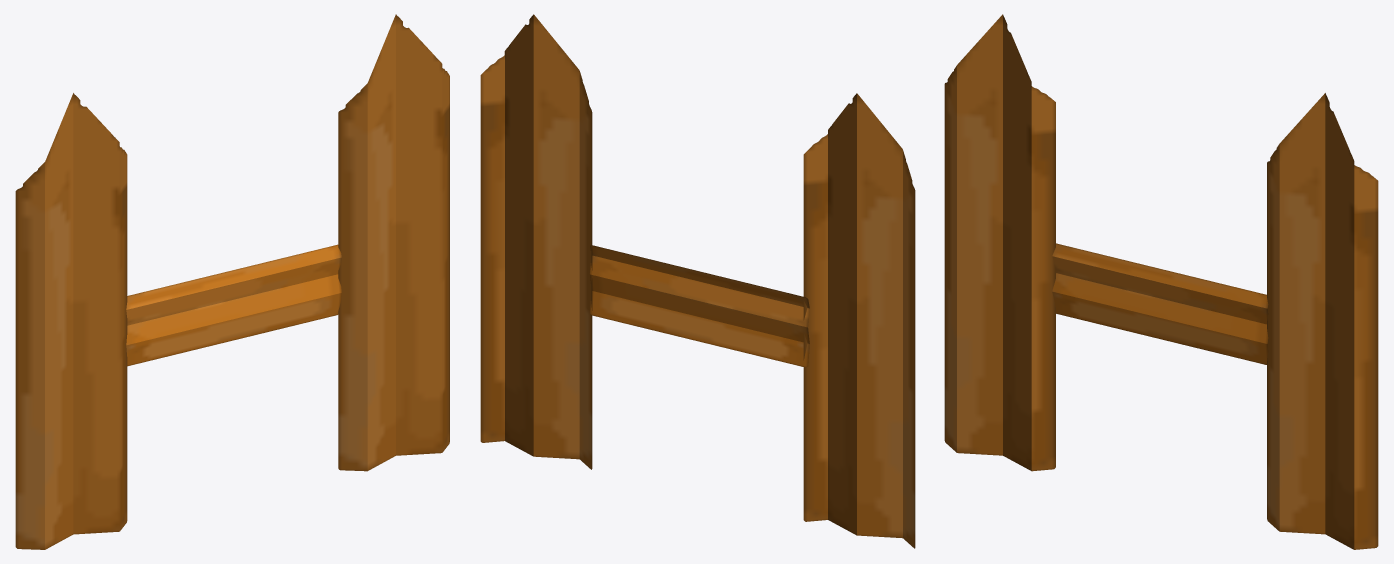
The model's file is Fence.fbx.
3 views of the same model, side by side, from view 1: azimuth 30°, elevation 25°; view 2: azimuth 150°, elevation 25°; view 3: azimuth 330°, elevation 25° (orthographic).
Parts seen in each view (by area): view 1: Plane.004, Plane, Plane.005; view 2: Plane, Plane.004, Plane.005; view 3: Plane, Plane.004, Plane.005.
Part boxes in pixels (x1,y1,x2,y2): Plane.004: (15,93,127,549); Plane: (338,14,449,471); Plane.005: (126,244,341,366); Plane: (480,14,592,469); Plane.004: (803,93,915,548); Plane.005: (589,245,809,367); Plane: (1267,93,1378,549); Plane.004: (944,14,1055,471); Plane.005: (1052,243,1268,364).
Bounding box in the file's own units: 128 × 124 × 4.47.
3 materials, 3 textured.
